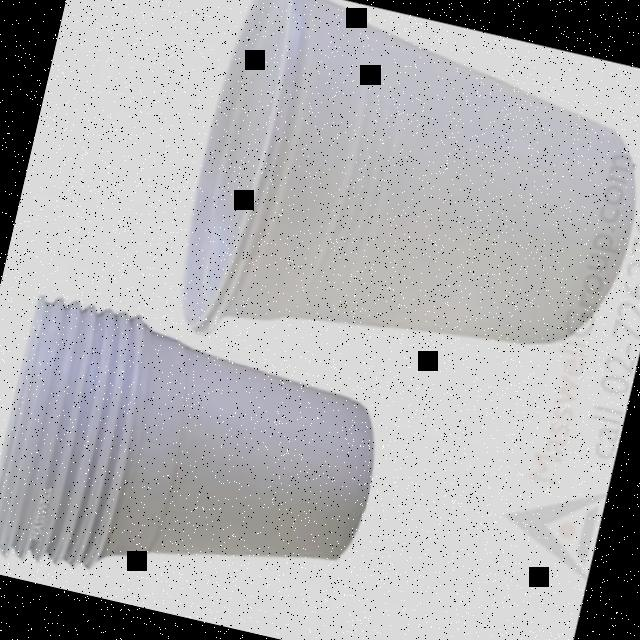plastic_cup: (168, 0, 640, 421), (0, 283, 396, 630)
